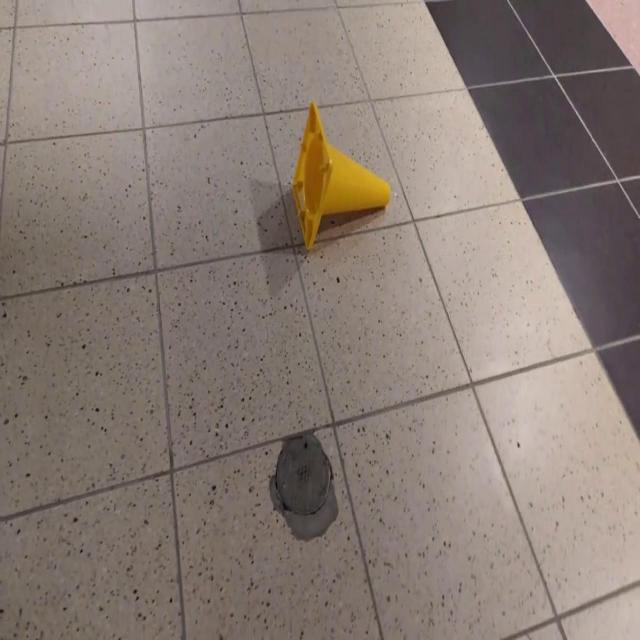frc_cone: (291, 101, 391, 255)
